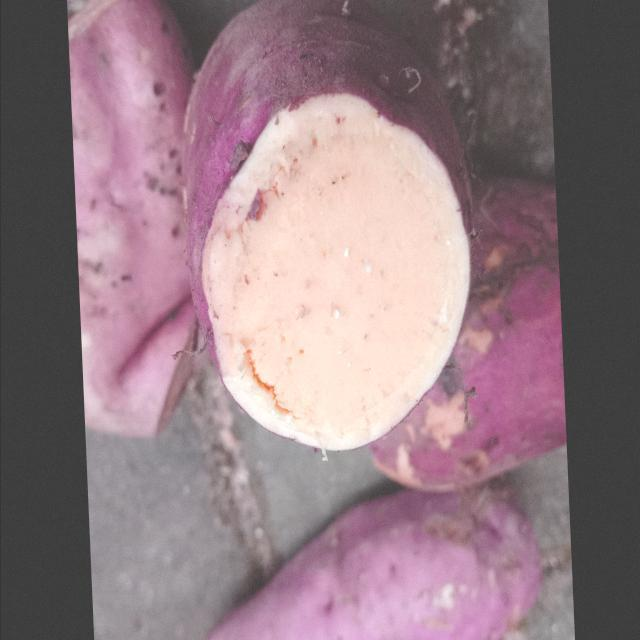Healthy Sweet Potato: (201, 95, 469, 448)
